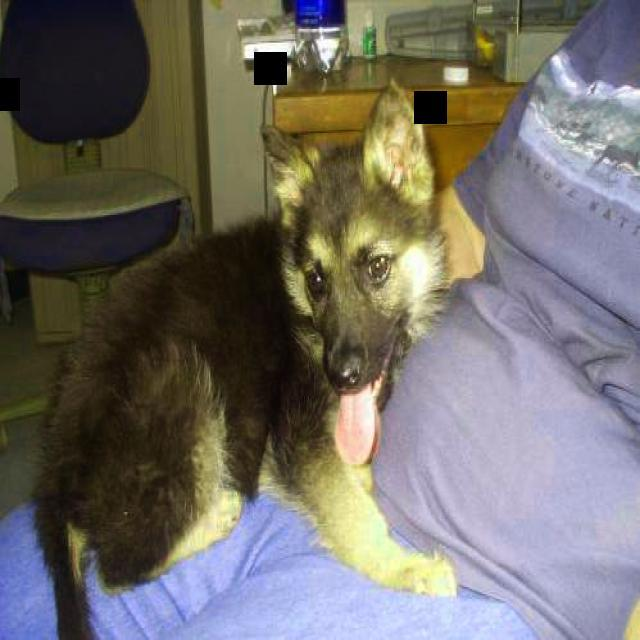puppy-dog: (33, 81, 454, 630)
